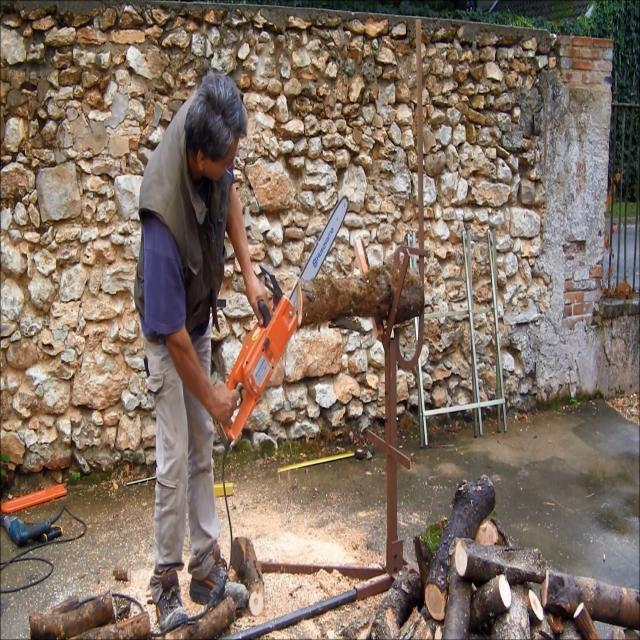Chainsaw: (203, 174, 357, 450)
